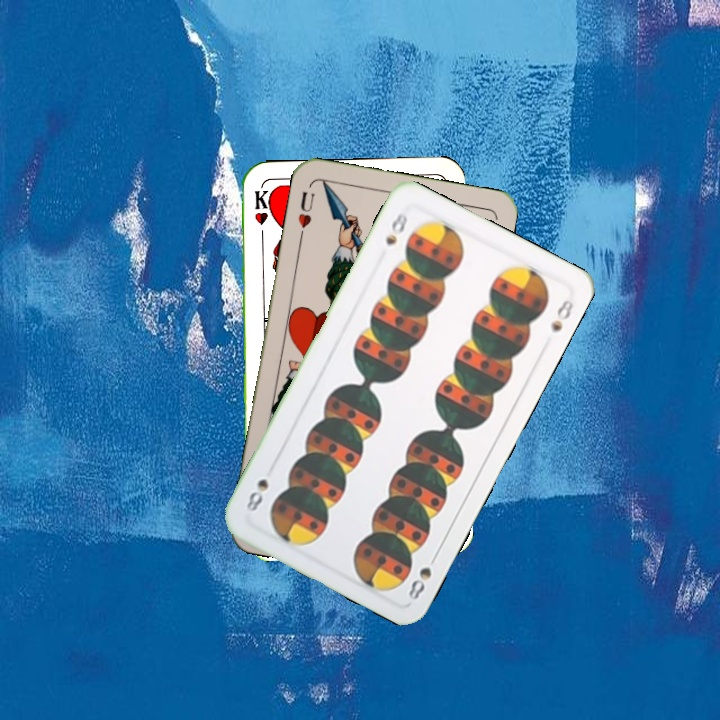HK: (250, 185, 271, 245)
HU: (294, 187, 317, 241)
S8: (404, 548, 441, 603), (381, 208, 411, 248)
